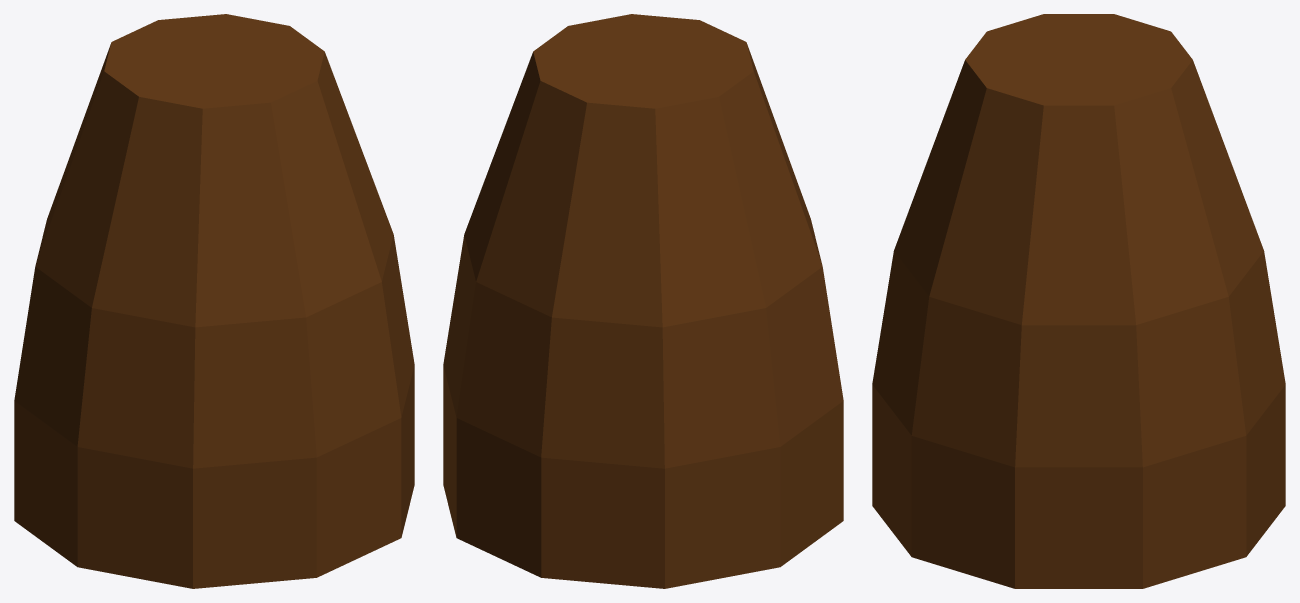
File: Repeater Bullet.glb
3 renders of one model, left to right at view 1: azimuth 30°, elevation 25°; view 2: azimuth 150°, elevation 25°; view 3: azimuth 270°, elevation 25°, orthographic.
Parts seen in each view (by area): view 1: Repeater Bullet; view 2: Repeater Bullet; view 3: Repeater Bullet.
Boxes of the visible parts, bbox=[...] form: Repeater Bullet: bbox=[14, 14, 414, 588]; Repeater Bullet: bbox=[443, 14, 843, 588]; Repeater Bullet: bbox=[872, 14, 1285, 588].
Bounding box in the file's own units: 0.8944 × 1.12 × 0.9404.
